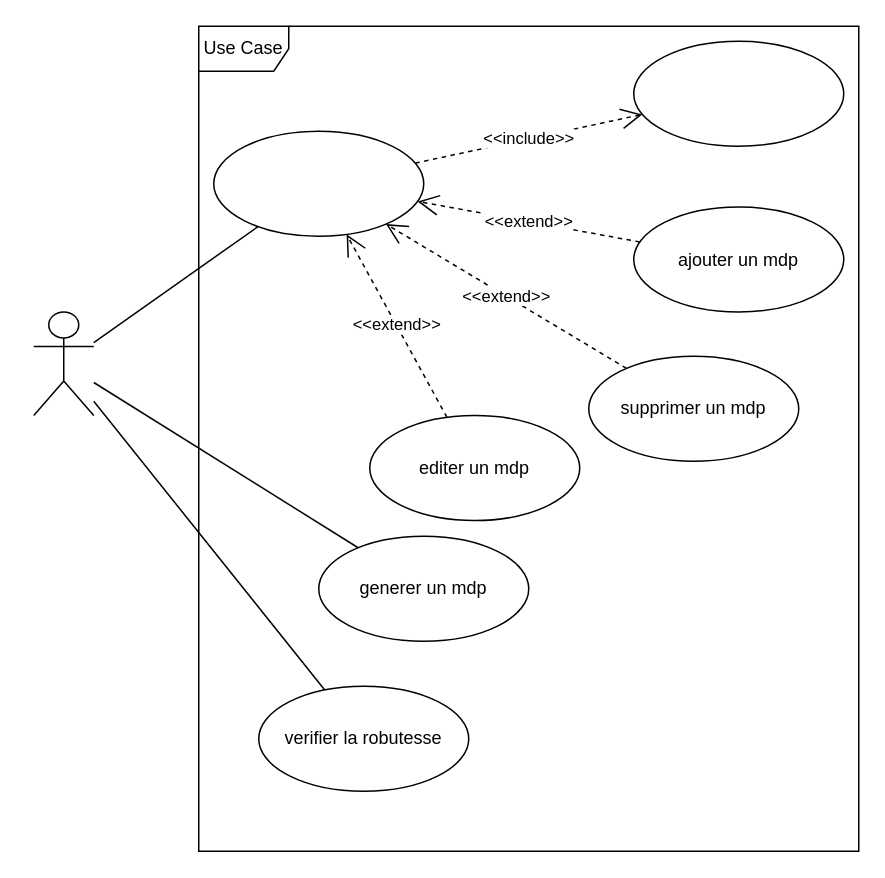
This 885x878 diagram has some shape labels left out. The box of each missing label's shape, as (x1, y1, x2, y2) in pixels:
gerer ses mdp: (212, 130, 424, 236)
s'authentifier: (632, 40, 844, 146)
utilisateur: (32, 310, 94, 416)
